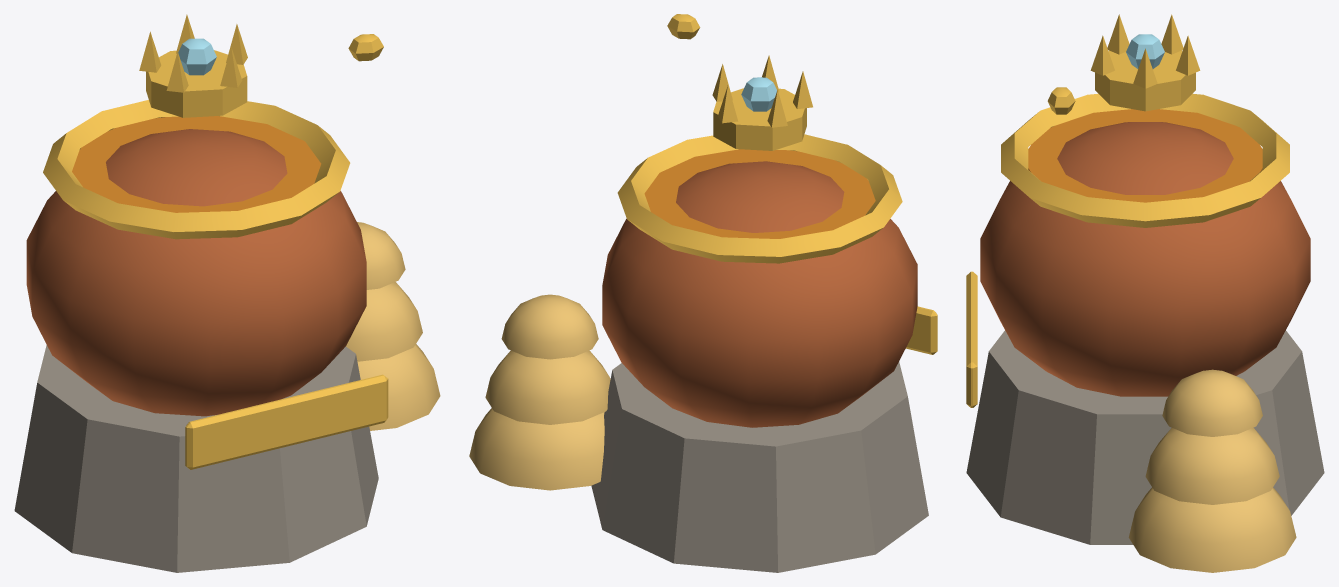
Rendered from PR_Station_Bal_T3.fbx.
The picture shows the model from 3 angles, left to right: view 1: azimuth 30°, elevation 25°; view 2: azimuth 150°, elevation 25°; view 3: azimuth 270°, elevation 25°; orthographic projection. The views are drawn at different scales.
Visible parts, largest first — view 1: PR_Station_Bal_T3; view 2: PR_Station_Bal_T3; view 3: PR_Station_Bal_T3.
Boxes of the visible parts, bbox=[...] form: PR_Station_Bal_T3: bbox=[14, 14, 440, 572]; PR_Station_Bal_T3: bbox=[469, 14, 937, 572]; PR_Station_Bal_T3: bbox=[966, 14, 1324, 572].
Size of the model in its own units: 0.8343 by 0.875 by 0.64.
1 material, 1 textured.
